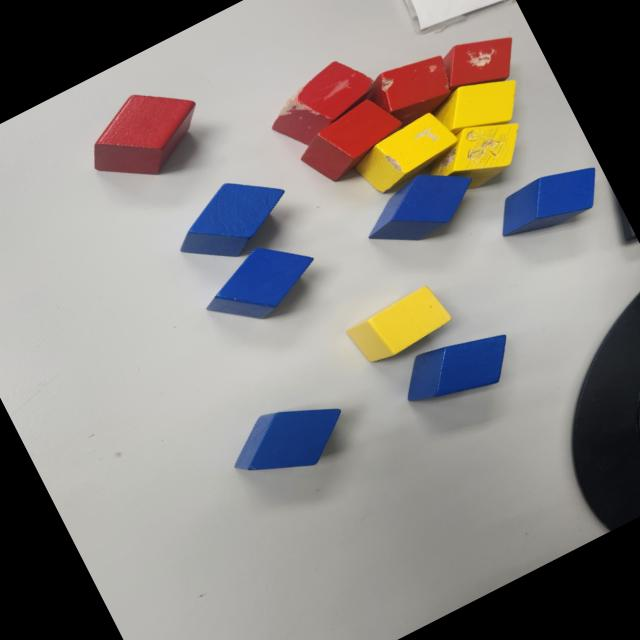blue: (216, 378, 360, 501), (163, 160, 301, 276), (191, 226, 329, 340), (390, 314, 526, 426), (352, 151, 489, 262), (487, 153, 612, 250)
broken: (256, 48, 388, 158), (417, 105, 536, 205), (346, 106, 466, 200), (354, 44, 464, 139), (431, 20, 528, 106)
red: (68, 68, 220, 202), (289, 88, 415, 194)
yellow: (342, 279, 456, 372), (426, 62, 532, 152)
